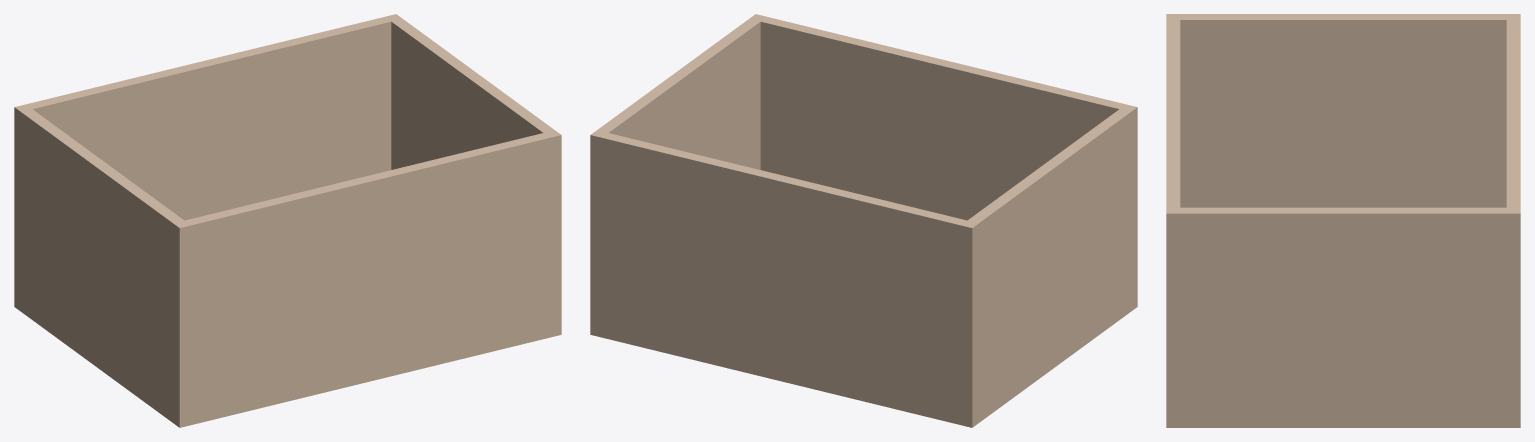
The model's file is g05_choice_box_detail.glb.
3 renders of one model, left to right at view 1: azimuth 30°, elevation 25°; view 2: azimuth 150°, elevation 25°; view 3: azimuth 270°, elevation 25°, orthographic. The views are drawn at different scales.
Parts seen in each view (by area): view 1: cb_wall_s, cb_wall_n, cb_wall_w, cb_wall_e, cb_bottom; view 2: cb_wall_n, cb_wall_s, cb_wall_w, cb_wall_e, cb_bottom; view 3: cb_wall_e, cb_wall_w, cb_wall_s, cb_wall_n, cb_bottom.
Part boxes in pixels (x1=…): cb_wall_s: x1=173, y1=130, x2=561, y2=427; cb_wall_n: x1=14, y1=14, x2=401, y2=311; cb_wall_w: x1=14, y1=105, x2=191, y2=427; cb_wall_e: x1=386, y1=14, x2=561, y2=334; cb_bottom: x1=14, y1=295, x2=561, y2=427; cb_wall_n: x1=590, y1=130, x2=978, y2=427; cb_wall_s: x1=749, y1=14, x2=1137, y2=303; cb_wall_w: x1=960, y1=105, x2=1137, y2=427; cb_wall_e: x1=590, y1=14, x2=766, y2=337; cb_bottom: x1=590, y1=295, x2=1137, y2=427; cb_wall_e: x1=1166, y1=207, x2=1520, y2=427; cb_wall_w: x1=1166, y1=14, x2=1519, y2=207; cb_wall_s: x1=1166, y1=14, x2=1180, y2=427; cb_wall_n: x1=1506, y1=14, x2=1520, y2=427; cb_bottom: x1=1166, y1=415, x2=1520, y2=427.
Bounding box in the file's own units: 0.2 × 0.1 × 0.15.
